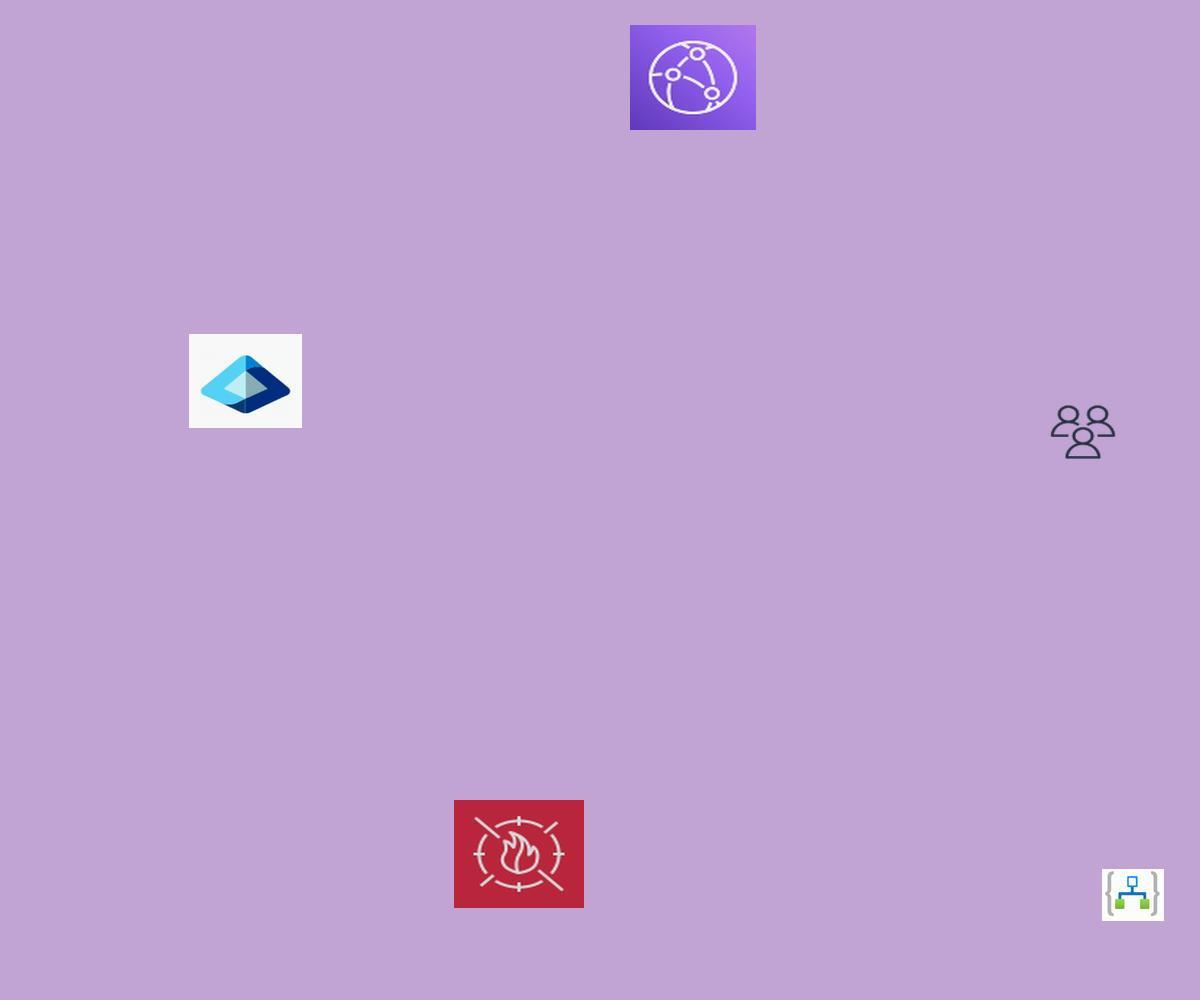AWS-CloudFront: (630, 25, 756, 130)
AWS-Res_Users: (1048, 403, 1118, 461)
AWS-WAF: (454, 800, 584, 908)
Azure_integration-204-Logic-Apps: (1102, 869, 1164, 921)
Azure_microsoft_entra: (189, 334, 302, 428)
